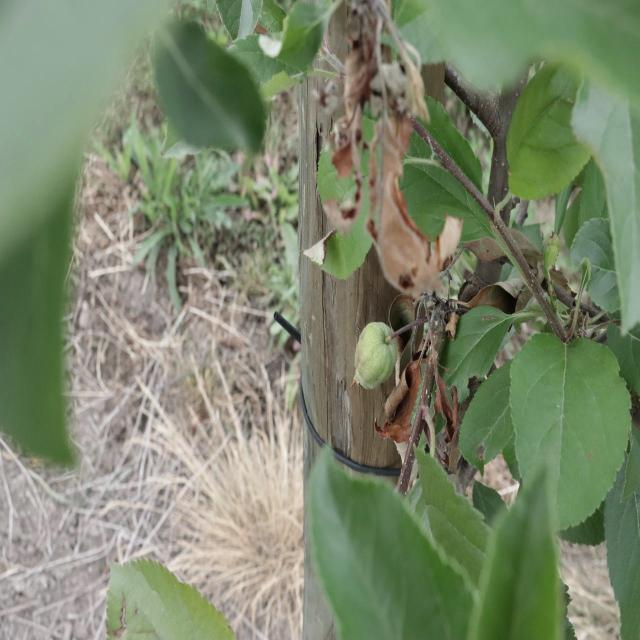-FireBlight-: (338, 3, 451, 286), (402, 339, 468, 468)
